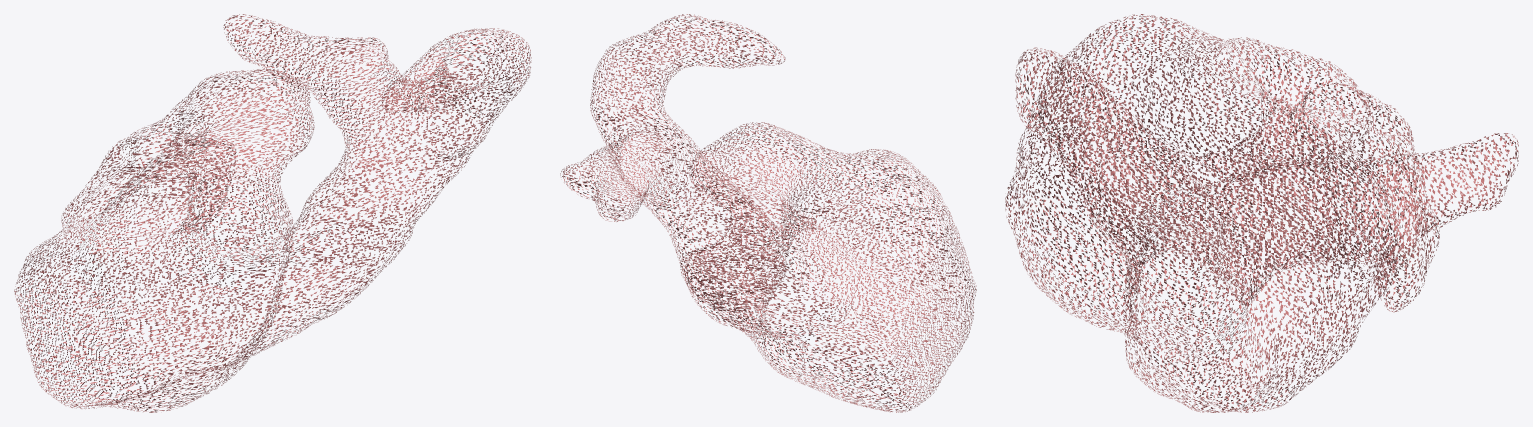
Rendered from heart.glb.
3 views of the same model, side by side, from view 1: azimuth 30°, elevation 25°; view 2: azimuth 150°, elevation 25°; view 3: azimuth 270°, elevation 25° (orthographic). The views are drawn at different scales.
Bounding box in the file's own units: 153 × 117 × 112.
